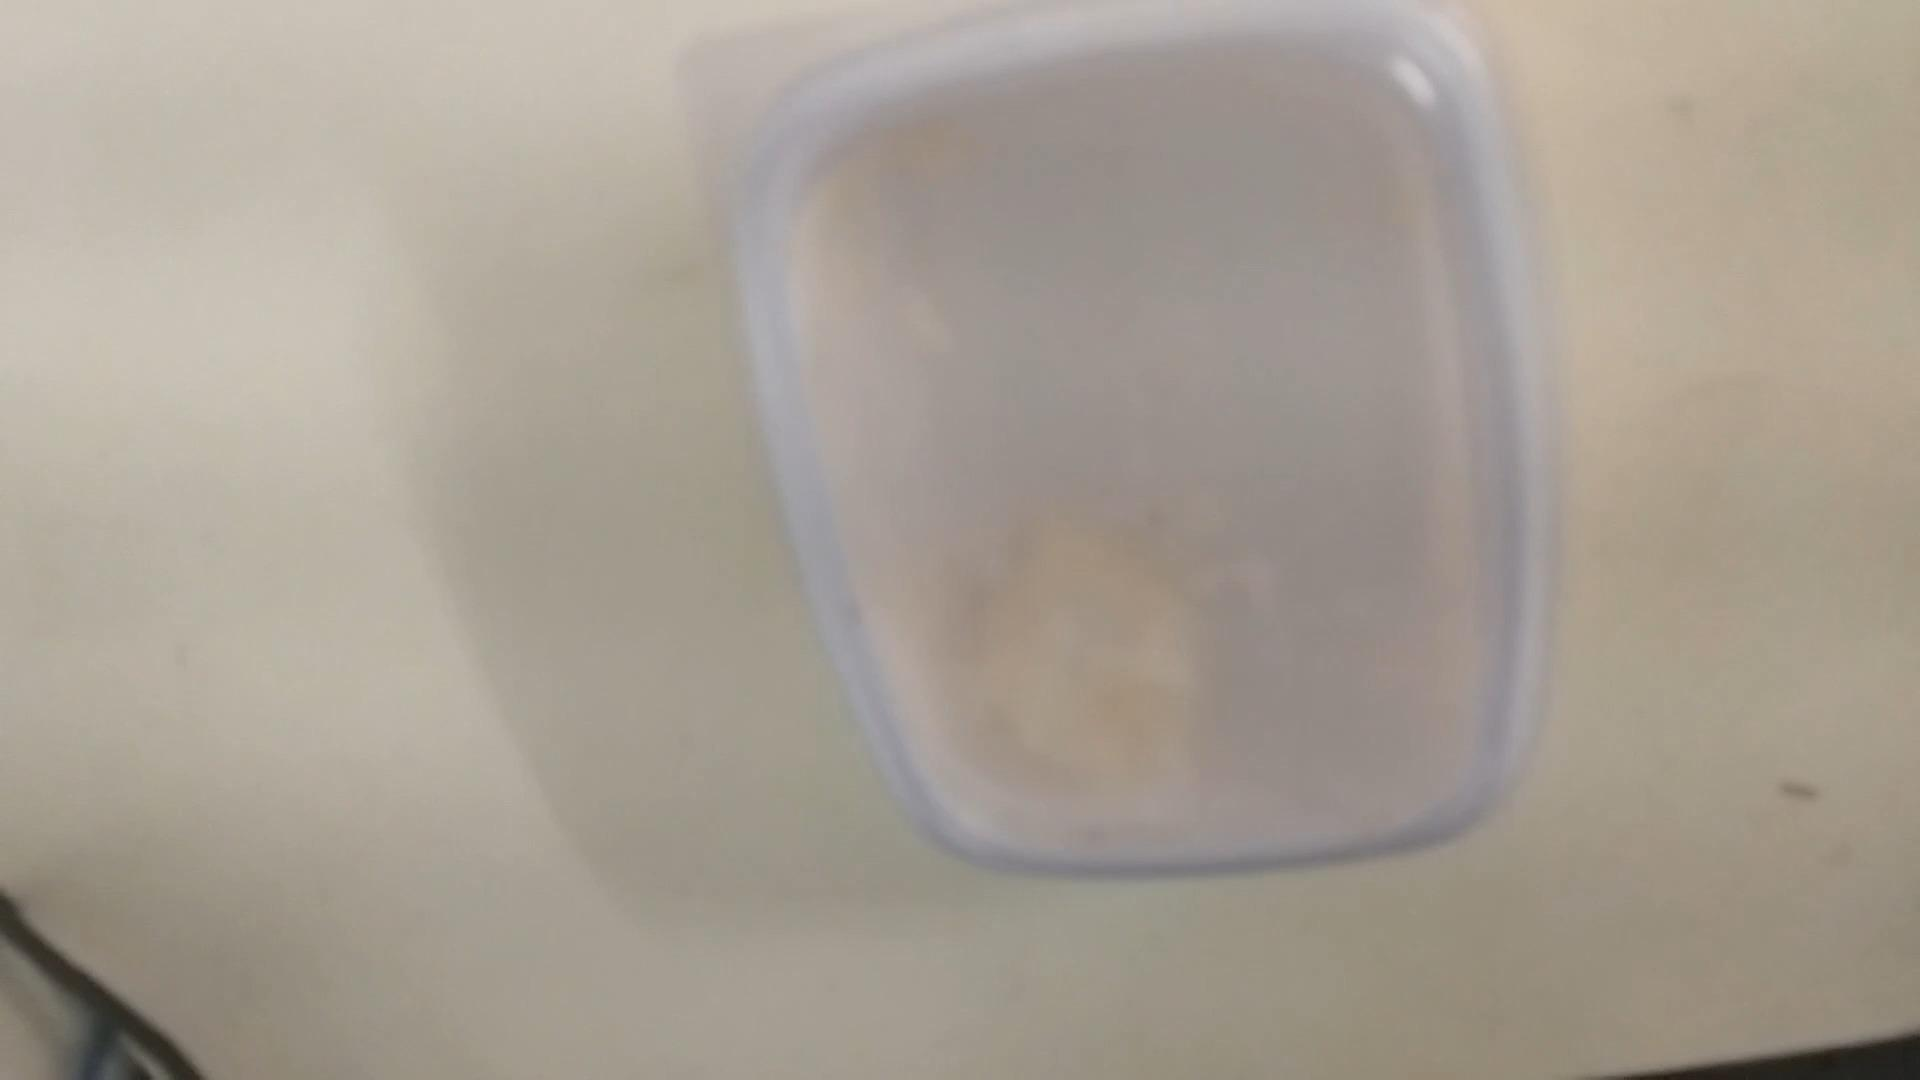butter: (723, 0, 1538, 880)
